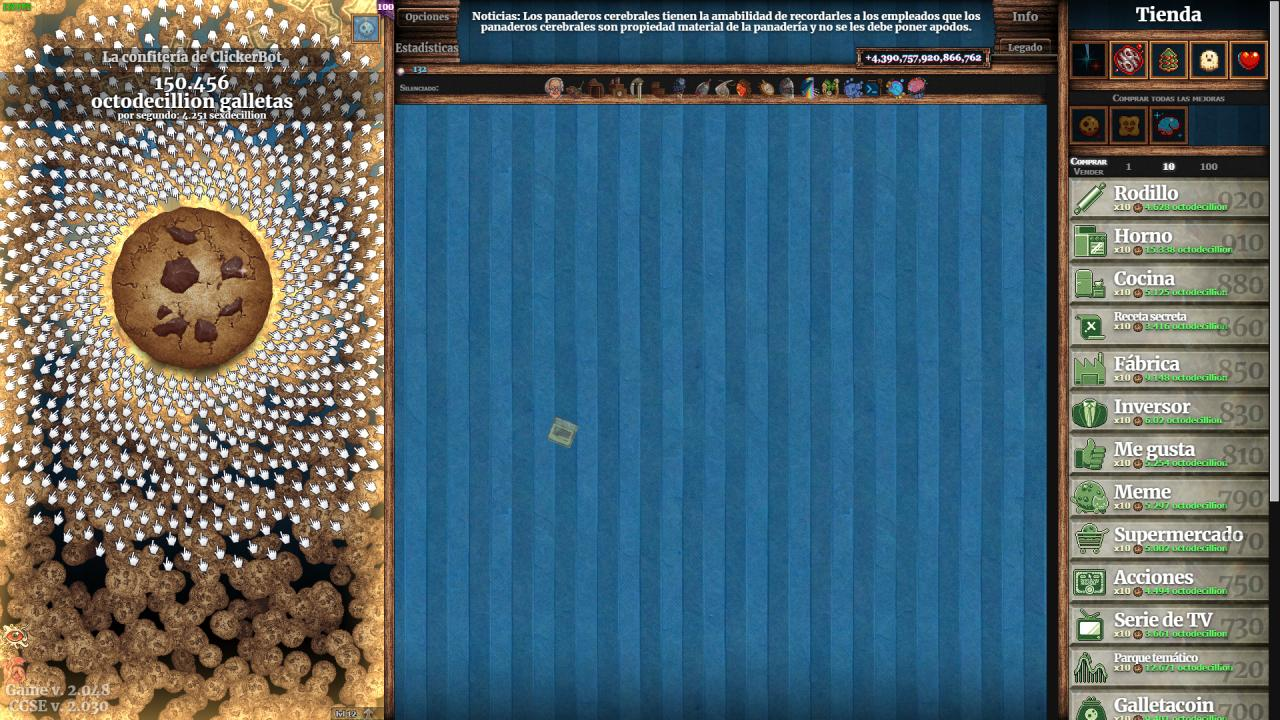GoldenCartridge: (546, 415, 580, 450)
